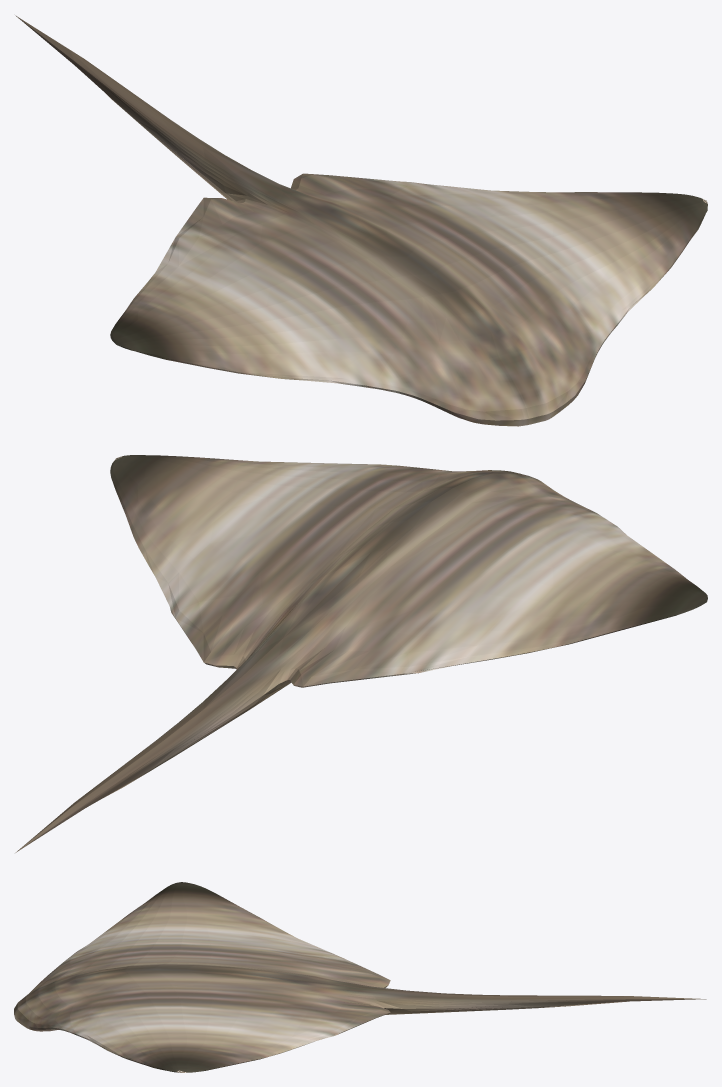
File: STINGRAY.OBJ
3 views of the same model, one above another, from view 1: azimuth 30°, elevation 25°; view 2: azimuth 150°, elevation 25°; view 3: azimuth 270°, elevation 25° (orthographic). The views are drawn at different scales.
Visible parts, largest first — view 1: stingray; view 2: stingray; view 3: stingray.
Boxes of the visible parts, x1,y1,x2,y2 form: stingray: (15, 15, 707, 426); stingray: (15, 455, 707, 852); stingray: (14, 882, 706, 1072).
Bounding box in the file's own units: 0.5625 × 0.0733 × 0.8643.
